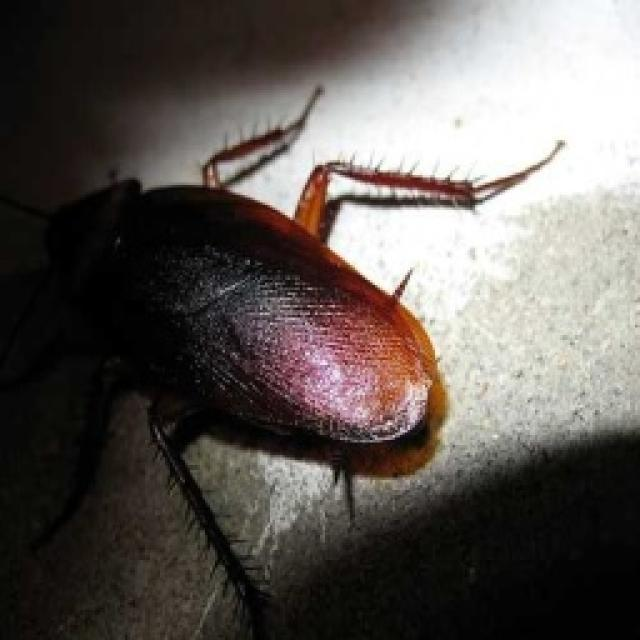cockroach: (5, 81, 570, 636)
